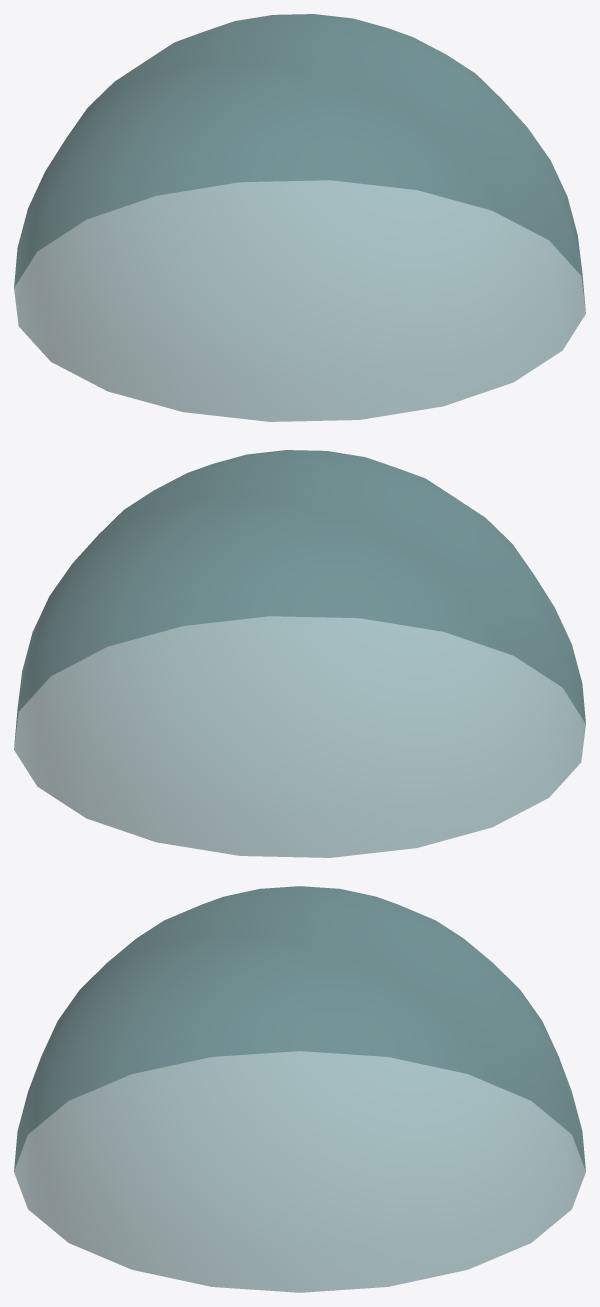
The model's file is canzhao2.fbx.
The picture shows the model from 3 angles, top to bottom: view 1: azimuth 30°, elevation 25°; view 2: azimuth 150°, elevation 25°; view 3: azimuth 270°, elevation 25°; orthographic projection.
Visible parts, largest first — view 1: pSphere1; view 2: pSphere1; view 3: pSphere1.
Boxes of the visible parts, <box> form: pSphere1: <box>14,14,585,421</box>; pSphere1: <box>14,450,585,857</box>; pSphere1: <box>14,886,585,1292</box>.
Size of the model in its own units: 2 by 1 by 2.
